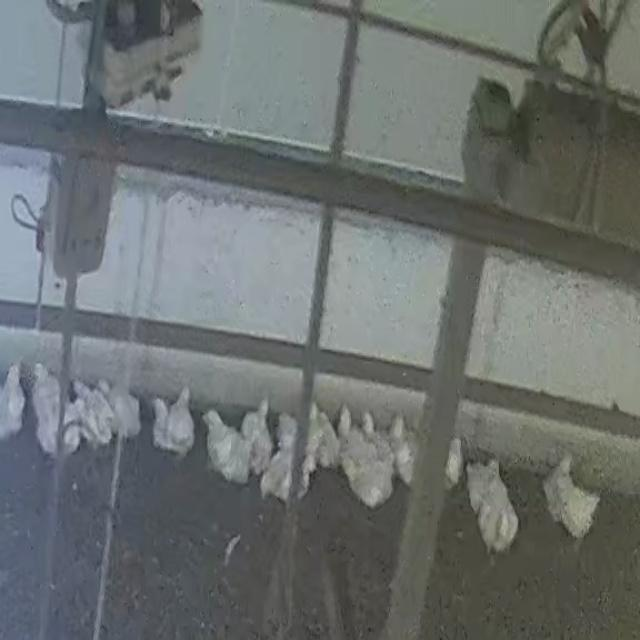chicken: (63, 372, 109, 447), (27, 385, 74, 456), (201, 414, 243, 488), (96, 371, 143, 435), (554, 482, 597, 538), (237, 398, 273, 464), (485, 474, 517, 544), (540, 456, 578, 514), (387, 408, 418, 478), (343, 456, 386, 502), (167, 379, 194, 446), (357, 402, 384, 464), (0, 357, 22, 433), (340, 394, 366, 453), (151, 394, 175, 454), (317, 406, 341, 466), (26, 364, 58, 404), (469, 456, 499, 491)
